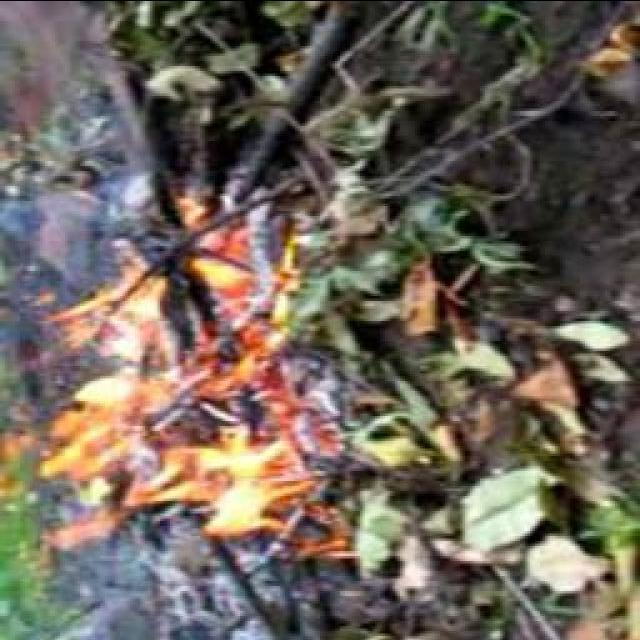Fire: (24, 204, 313, 564)
